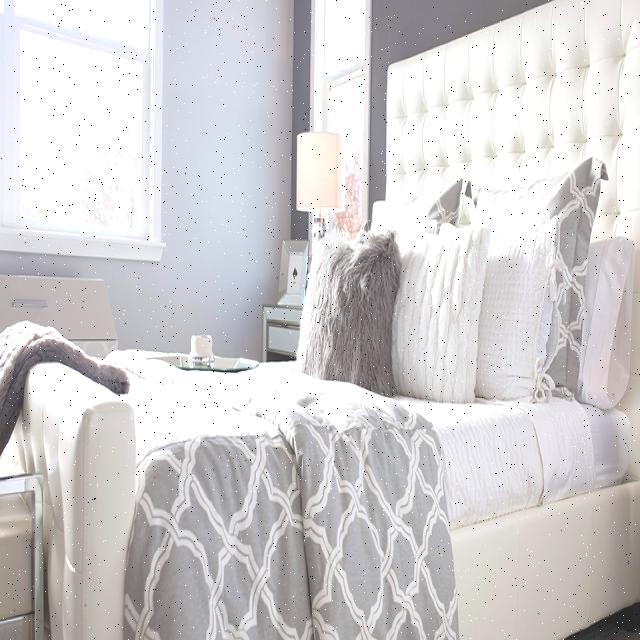bed: (82, 103, 635, 640)
